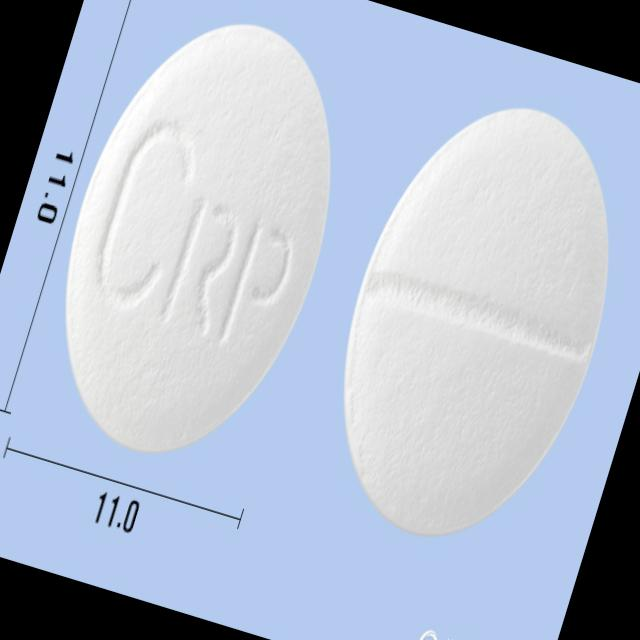Ciropan: (11, 0, 385, 494)
